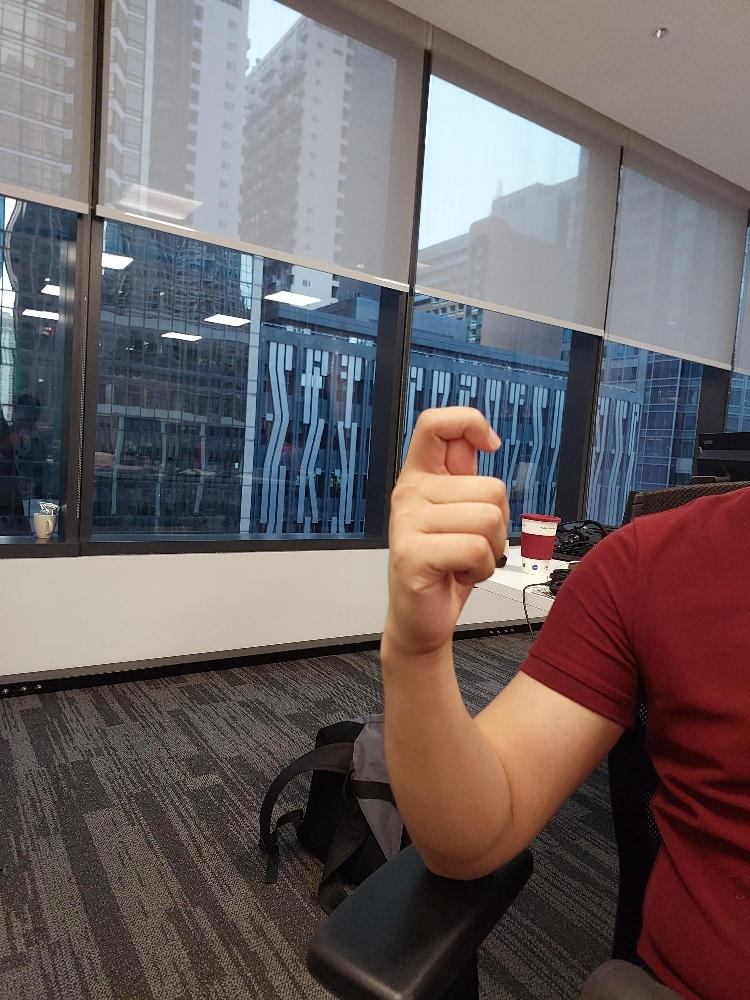t: (383, 403, 511, 655)
